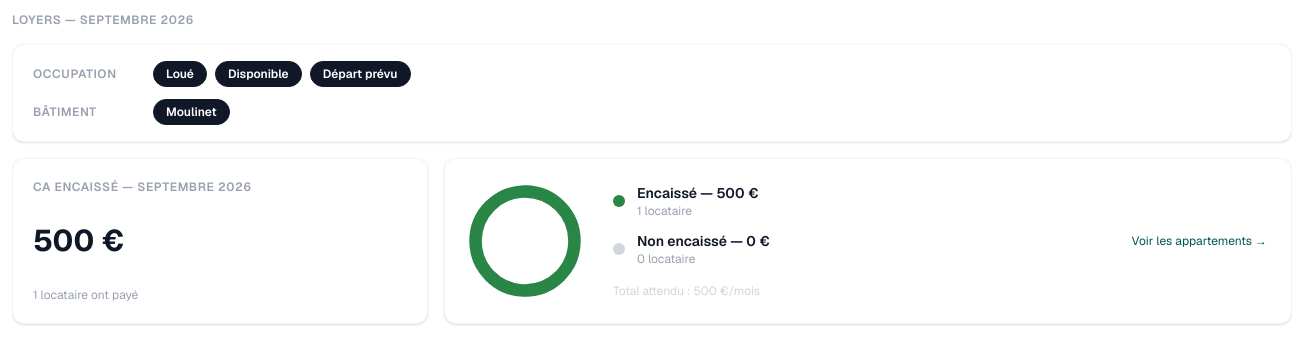
Test case: MoisLoyersClient — rendu de base › exclut un appartement du calcul en désélectionnant son bâtiment
Expected: the text "1 locataire ont payé" is shown, [33,287,138,303]
Click the button "Moulinet".
click(191, 112)  # box [153,99,230,125]
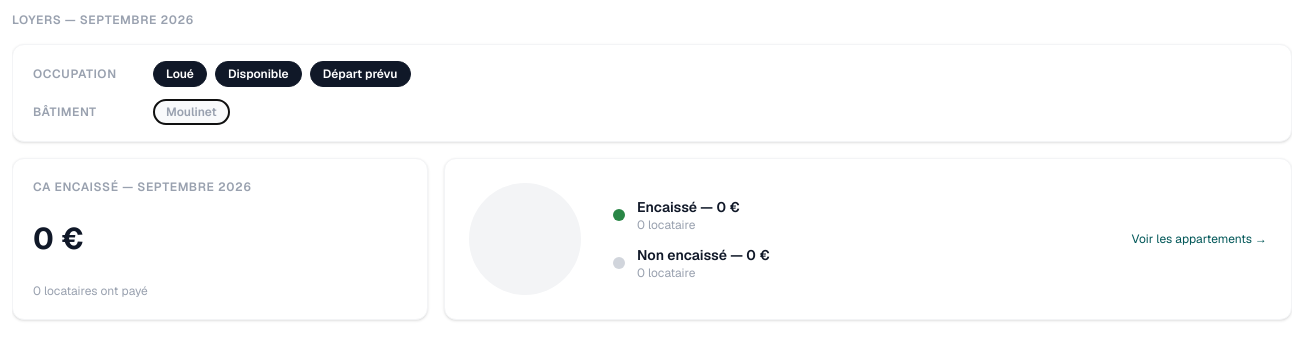
Expected: the text "0 locataires ont payé" is shown, [33,283,148,299]
